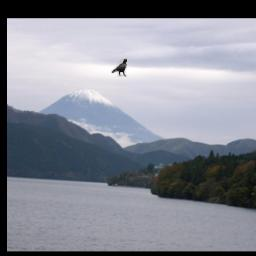Crow: (111, 58, 127, 77)
